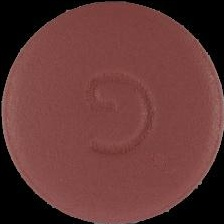68462-110: (0, 0, 224, 224)
